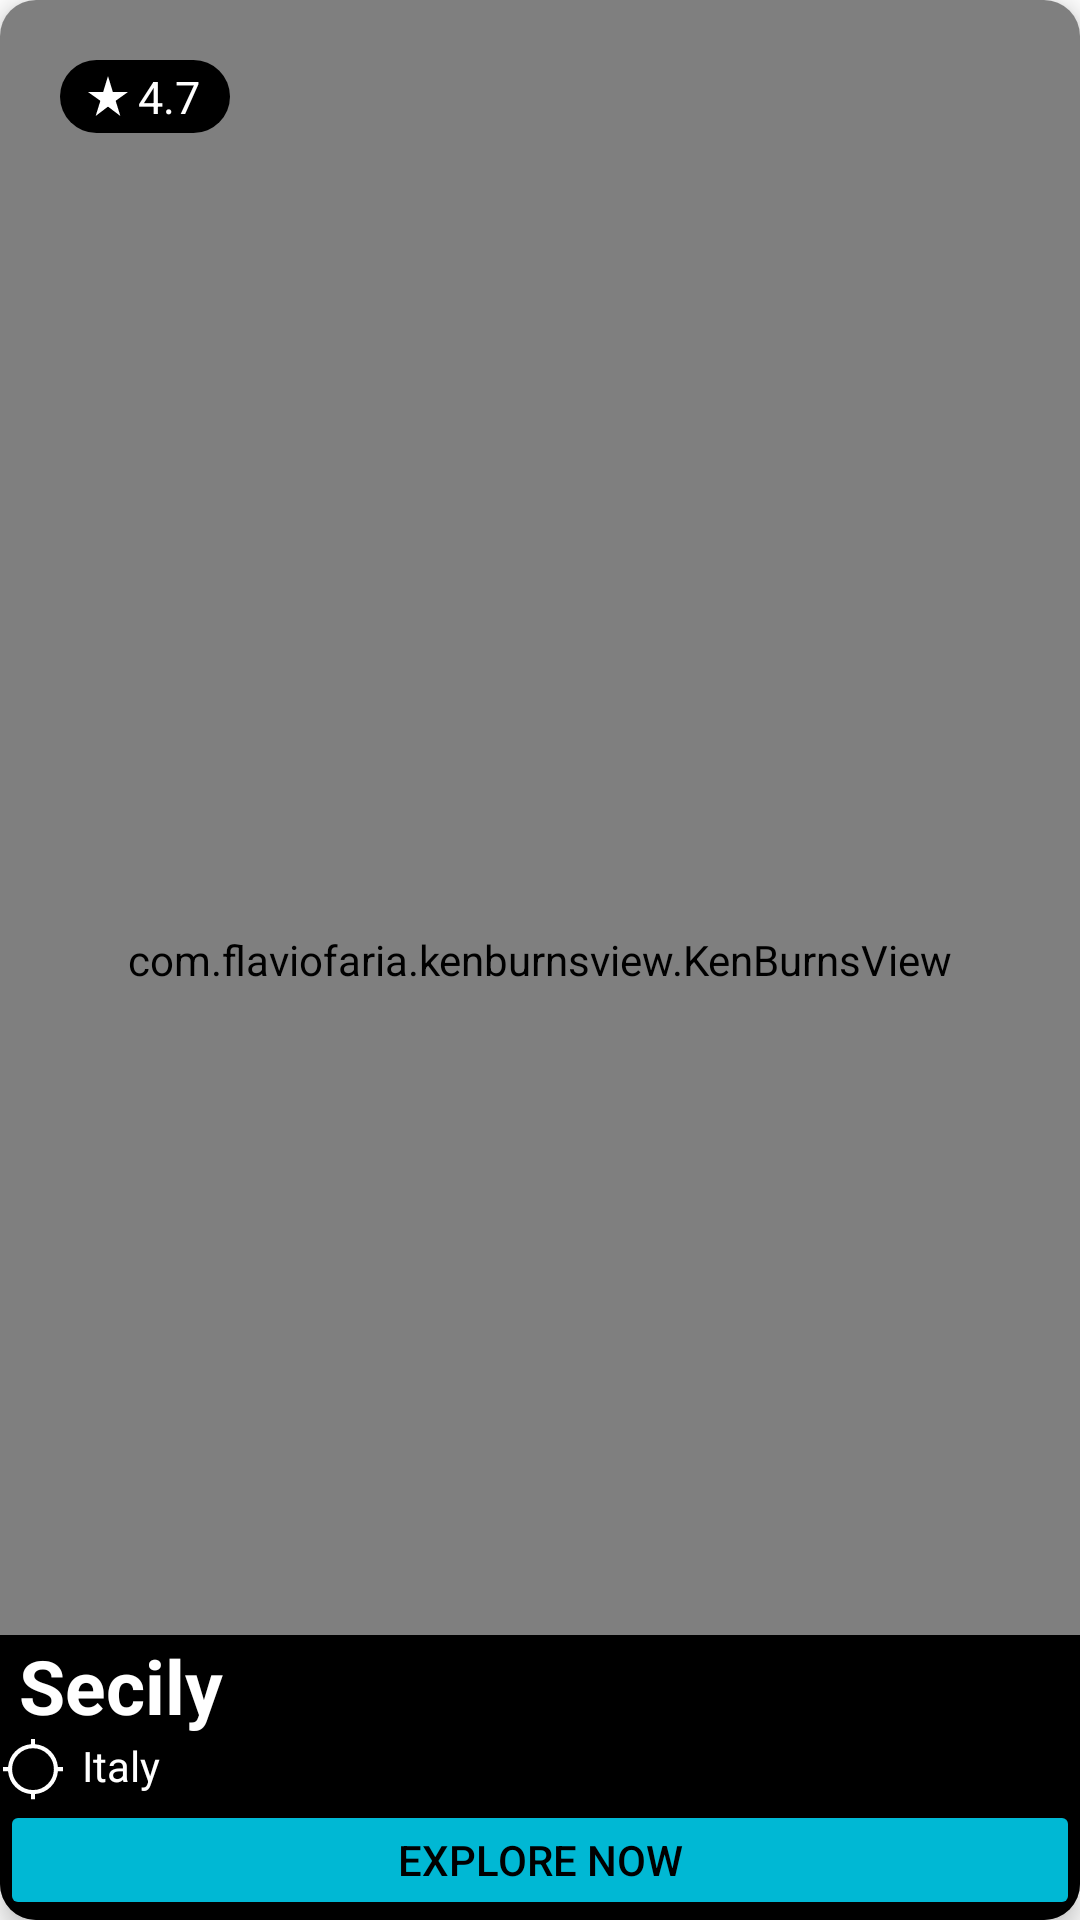

Named icons in this screenshot (1080*1920) and their bounding boxes, [x1=x1, y1=y1, x2=x2, y2=y2]:
starrate: [x1=88, y1=76, x2=128, y2=116]
